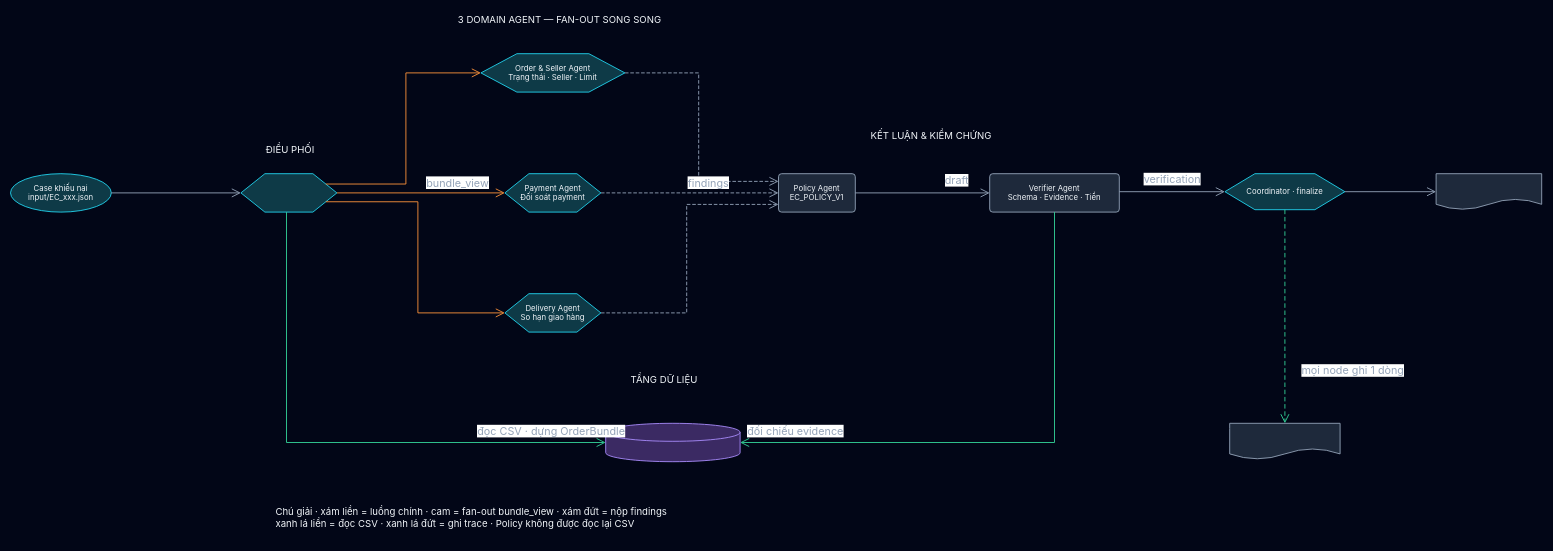
This 1553x551 diagram has some shape labels left out. Here are the shapes that lost their labels. From the top down, the box of each, then its label:
(240, 173, 337, 212): Coordinator Dựng bundle_view
(1435, 173, 1542, 210): output/EC_xxx.json
(605, 423, 740, 462): data_store data/*.csv — 9 bảng Olist
(1229, 423, 1340, 459): logging/trace.jsonl
